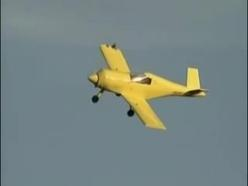aircraft: (88, 43, 209, 131)
